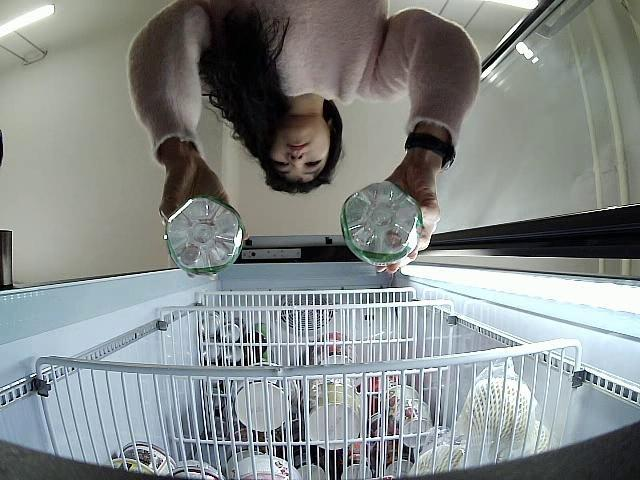18_trevi: (338, 178, 426, 267), (165, 192, 246, 275)
